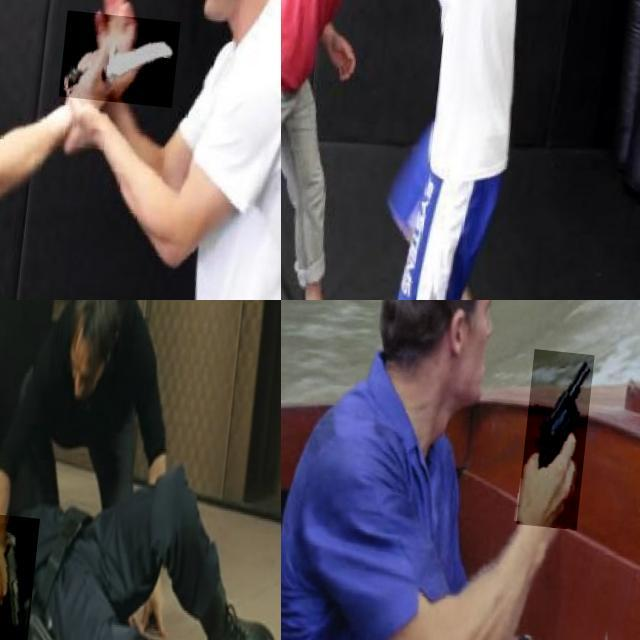-: (64, 3, 184, 98), (281, 0, 353, 53)
gun-knife-thesis - v11 Yolov5 augmented: (526, 340, 600, 520), (0, 510, 50, 640)
